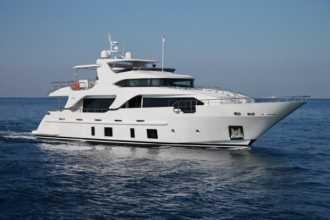yacht: (31, 39, 312, 144)
